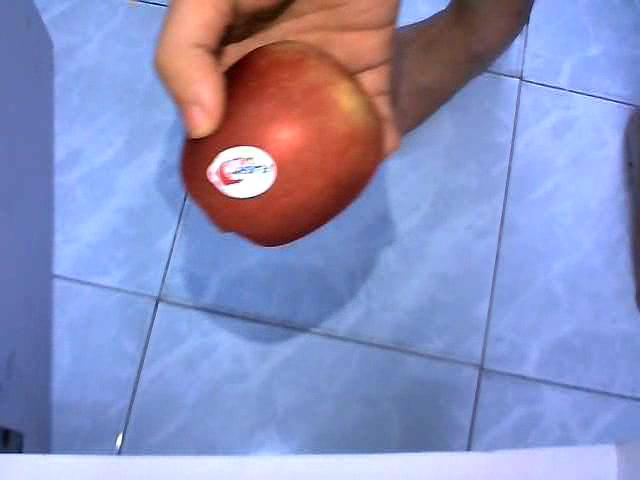apple: (176, 38, 382, 248)
